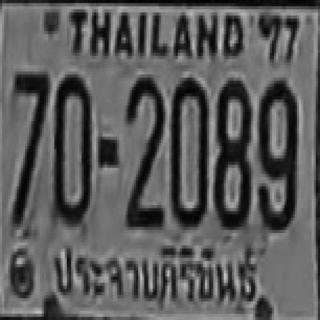N00: (51, 73, 91, 222), (169, 76, 207, 225)
N02: (123, 74, 163, 220), (124, 74, 164, 208)
N07: (10, 68, 48, 221), (12, 70, 48, 163)
N08: (213, 78, 249, 227)
N09: (257, 79, 295, 228)
P50: (46, 236, 264, 311)
